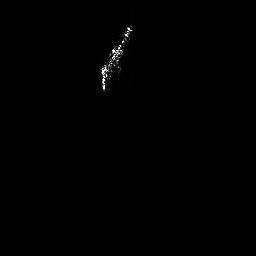ship: (94, 21, 136, 94)
